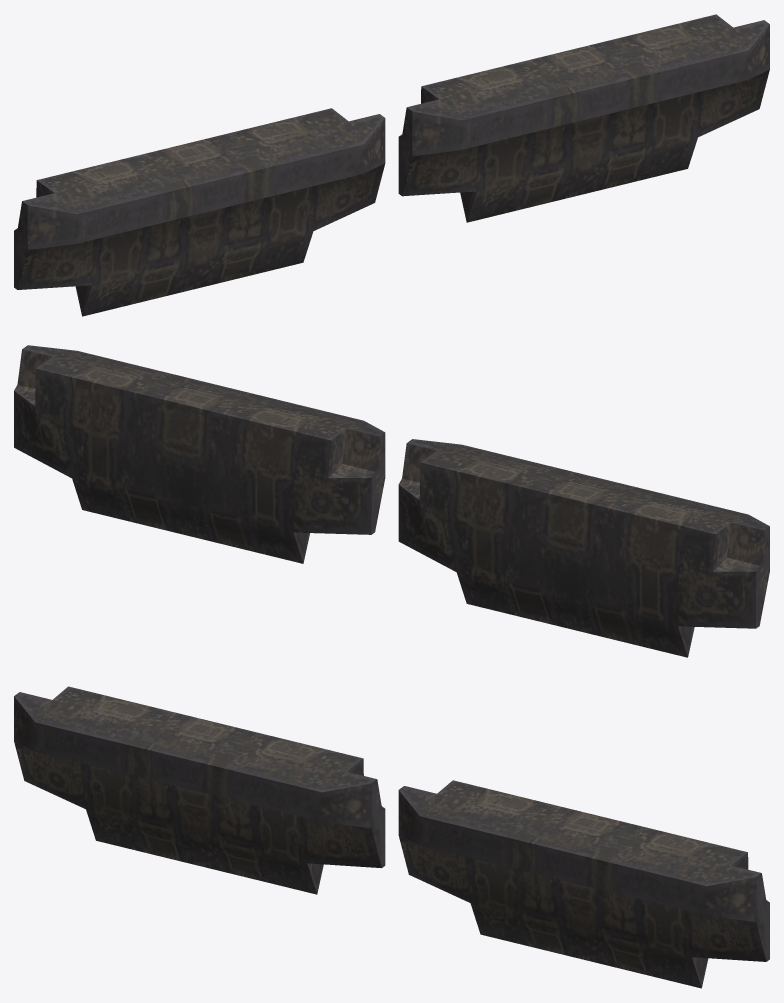
3 renders of one model, top to bottom at view 1: azimuth 30°, elevation 25°; view 2: azimuth 150°, elevation 25°; view 3: azimuth 330°, elevation 25°, orthographic.
Visible parts, largest first — view 1: set_0_group_0; view 2: set_0_group_0; view 3: set_0_group_0.
Boxes of the visible parts, <box> form: set_0_group_0: <box>14,14,769,316</box>; set_0_group_0: <box>14,345,769,657</box>; set_0_group_0: <box>14,686,769,988</box>.
Bounding box in the file's own units: 1.02 × 0.1818 × 0.0919.
1 material, 1 textured.
